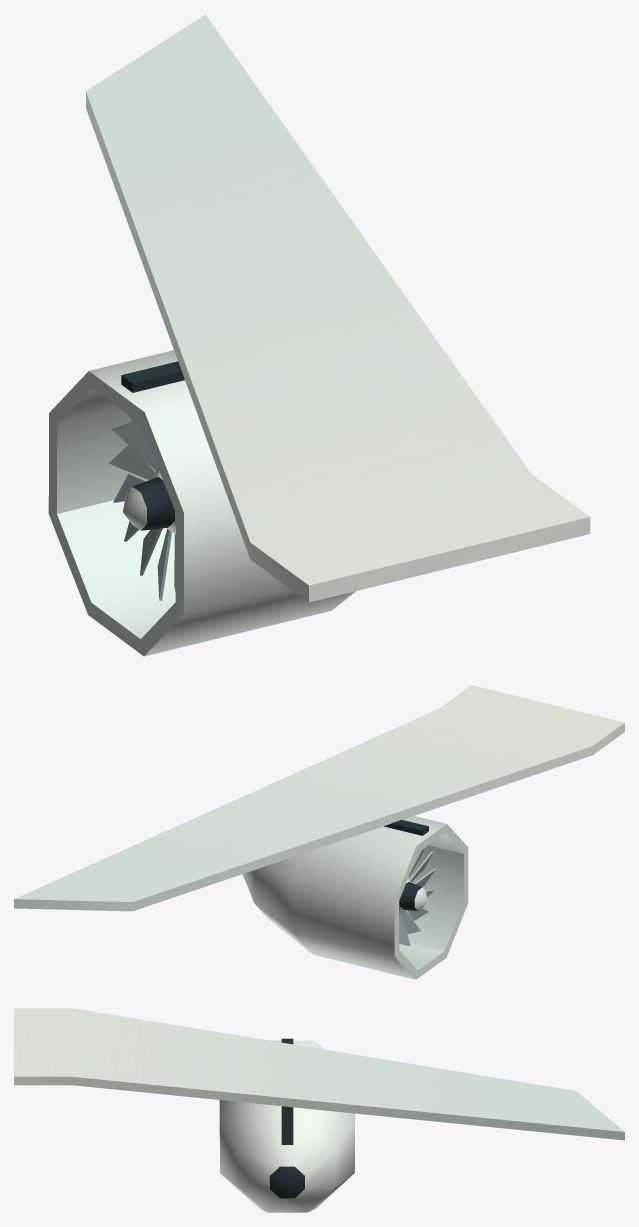
The model's file is SM_Plane_Wings.fbx.
The picture shows the model from 3 angles, top to bottom: view 1: azimuth 30°, elevation 25°; view 2: azimuth 150°, elevation 25°; view 3: azimuth 270°, elevation 25°; orthographic projection. The views are drawn at different scales.
Visible parts, largest first — view 1: SM_Plane_Wings; view 2: SM_Plane_Wings; view 3: SM_Plane_Wings.
Boxes of the visible parts, x1,y1,x2,y2 form: SM_Plane_Wings: [48, 14, 590, 656]; SM_Plane_Wings: [14, 685, 624, 979]; SM_Plane_Wings: [14, 1008, 624, 1212].
Bounding box in the file's own units: 57.71 × 29.4 × 120.
